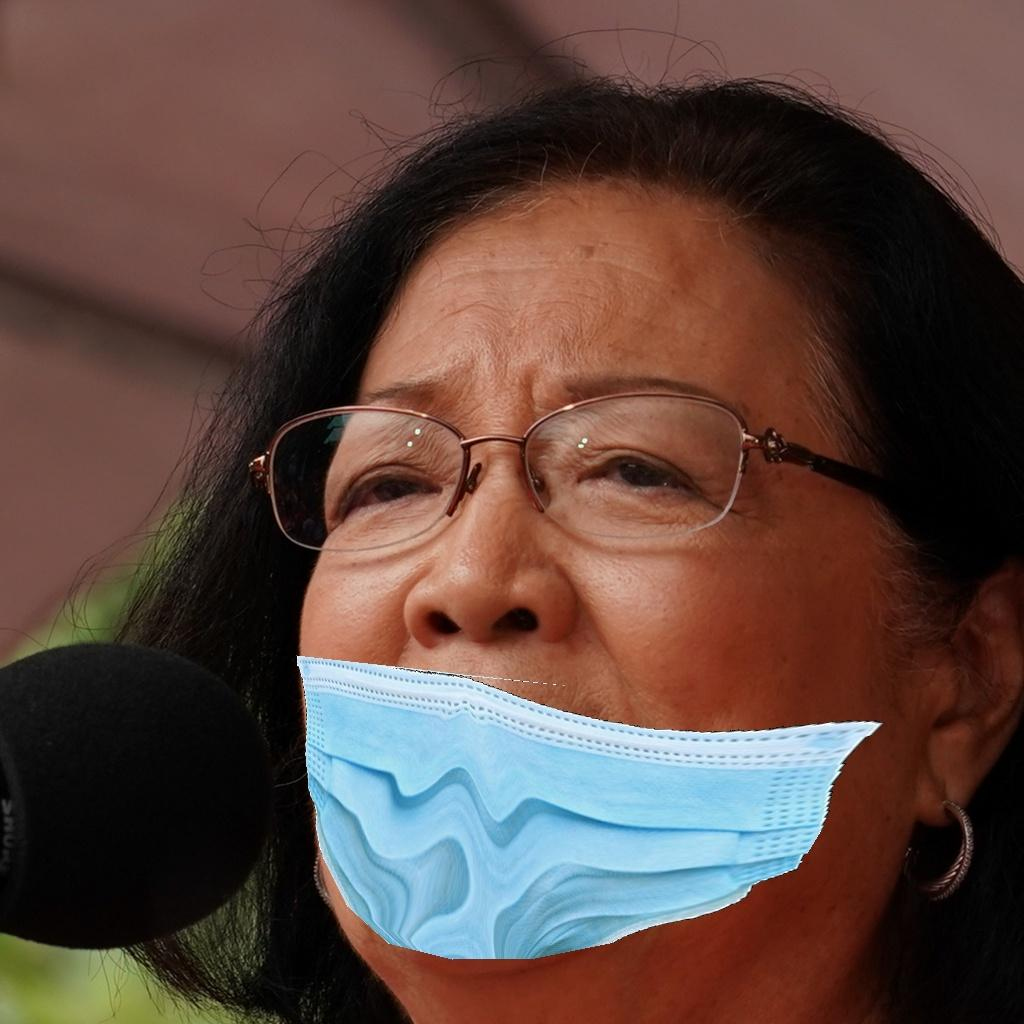Máscara Incorreta: (302, 267, 860, 1003)
